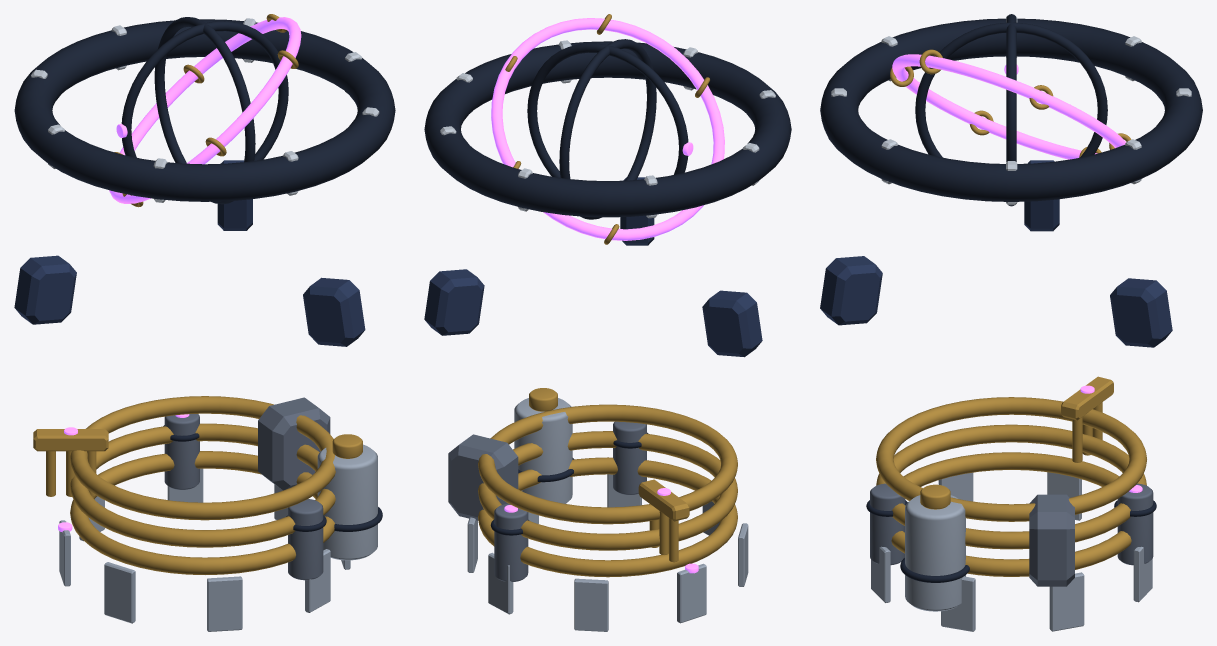
The model's file is tower_singularity_rate_s10.glb.
3 views of the same model, side by side, from view 1: azimuth 30°, elevation 25°; view 2: azimuth 150°, elevation 25°; view 3: azimuth 270°, elevation 25° (orthographic). The views are drawn at different scales.
Visible parts, largest first — view 1: singularity_horizon_torus, singularity_stem_coil2, singularity_stem_coil1, singularity_stem_coil0, singularity_coolant_tank, singularity_halo_b_ring, singularity_stem_junction, singularity_regulator0, singularity_regulator1, singularity_core_cage_b, singularity_core_cage_c, singularity_stem_cap4.363323129985824 (+9 smaller); view 2: singularity_horizon_torus, singularity_stem_coil2, singularity_stem_coil1, singularity_stem_coil0, singularity_halo_b_ring, singularity_coolant_tank, singularity_stem_junction, singularity_core_cage_b, singularity_regulator2, singularity_regulator0, singularity_core_cage_c, singularity_stem_cap1.9198621771937625 (+10 smaller); view 3: singularity_horizon_torus, singularity_stem_coil2, singularity_stem_coil1, singularity_stem_coil0, singularity_coolant_tank, singularity_halo_b_ring, singularity_stem_junction, singularity_regulator1, singularity_regulator2, singularity_core_cage_c, singularity_stem_cap4.363323129985824, singularity_stem_cap1.9198621771937625 (+11 smaller).
Boxes of the visible parts, left/top/right/bottom form: singularity_horizon_torus: left=14, top=19, right=395, bottom=201; singularity_stem_coil2: left=70, top=396, right=335, bottom=520; singularity_stem_coil1: left=70, top=423, right=335, bottom=547; singularity_stem_coil0: left=70, top=451, right=334, bottom=574; singularity_coolant_tank: left=317, top=444, right=377, bottom=560; singularity_halo_b_ring: left=109, top=17, right=301, bottom=203; singularity_stem_junction: left=258, top=397, right=330, bottom=490; singularity_regulator0: left=14, top=255, right=76, bottom=324; singularity_regulator1: left=303, top=277, right=365, bottom=346; singularity_core_cage_b: left=121, top=21, right=288, bottom=160; singularity_core_cage_c: left=154, top=17, right=255, bottom=204; singularity_stem_cap4.363323129985824: left=288, top=499, right=323, bottom=580; singularity_horizon_torus: left=424, top=41, right=791, bottom=217; singularity_stem_coil2: left=478, top=404, right=737, bottom=524; singularity_stem_coil1: left=478, top=431, right=737, bottom=550; singularity_stem_coil0: left=478, top=457, right=737, bottom=577; singularity_halo_b_ring: left=491, top=18, right=724, bottom=240; singularity_coolant_tank: left=514, top=398, right=572, bottom=503; singularity_stem_junction: left=448, top=434, right=518, bottom=520; singularity_core_cage_b: left=527, top=43, right=688, bottom=177; singularity_regulator2: left=424, top=269, right=484, bottom=335; singularity_regulator0: left=702, top=290, right=762, bottom=357; singularity_core_cage_c: left=559, top=39, right=656, bottom=219; singularity_stem_cap1.9198621771937625: left=494, top=503, right=528, bottom=581; singularity_horizon_torus: left=820, top=18, right=1202, bottom=201; singularity_stem_coil2: left=876, top=397, right=1146, bottom=521; singularity_stem_coil1: left=876, top=424, right=1146, bottom=549; singularity_stem_coil0: left=891, top=452, right=1131, bottom=576; singularity_coolant_tank: left=905, top=495, right=965, bottom=611; singularity_halo_b_ring: left=892, top=54, right=1125, bottom=159; singularity_stem_junction: left=1029, top=494, right=1074, bottom=586; singularity_regulator1: left=820, top=256, right=882, bottom=325; singularity_regulator2: left=1110, top=278, right=1172, bottom=347; singularity_core_cage_c: left=915, top=22, right=1107, bottom=157; singularity_stem_cap4.363323129985824: left=870, top=483, right=905, bottom=565; singularity_stem_cap1.9198621771937625: left=1117, top=483, right=1153, bottom=565.
Size of the model in its own units: 1.53 by 2.39 by 1.51.
